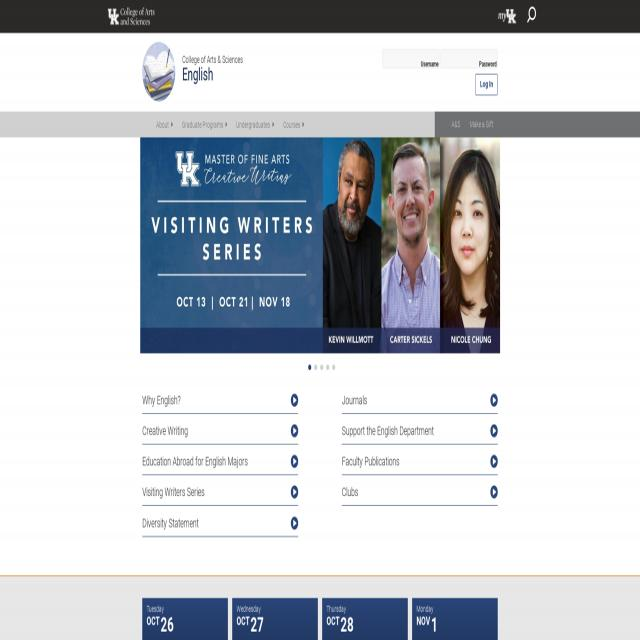button: (142, 42, 176, 101), (104, 2, 158, 30), (177, 114, 231, 138), (232, 112, 279, 136), (466, 111, 498, 136), (279, 112, 309, 137), (151, 112, 177, 136), (498, 0, 516, 32), (523, 0, 541, 31), (475, 74, 498, 95), (447, 112, 465, 136)
field: (382, 49, 440, 69), (440, 49, 498, 69)
